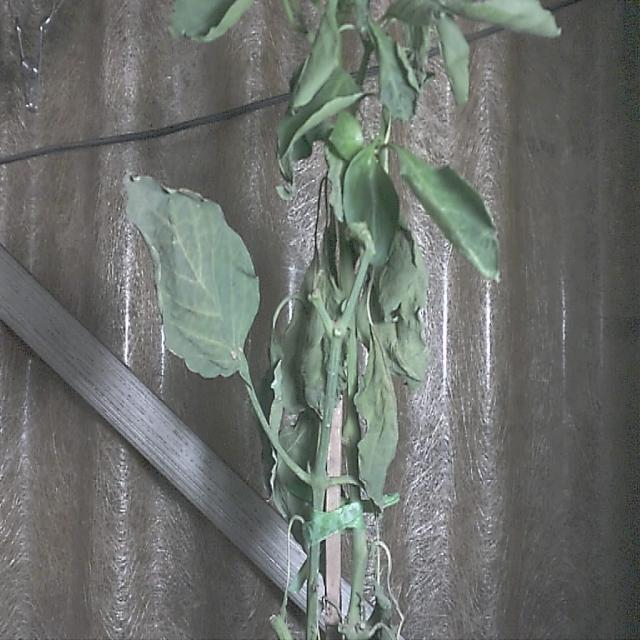Leaf: (126, 169, 260, 382), (400, 147, 499, 284)
